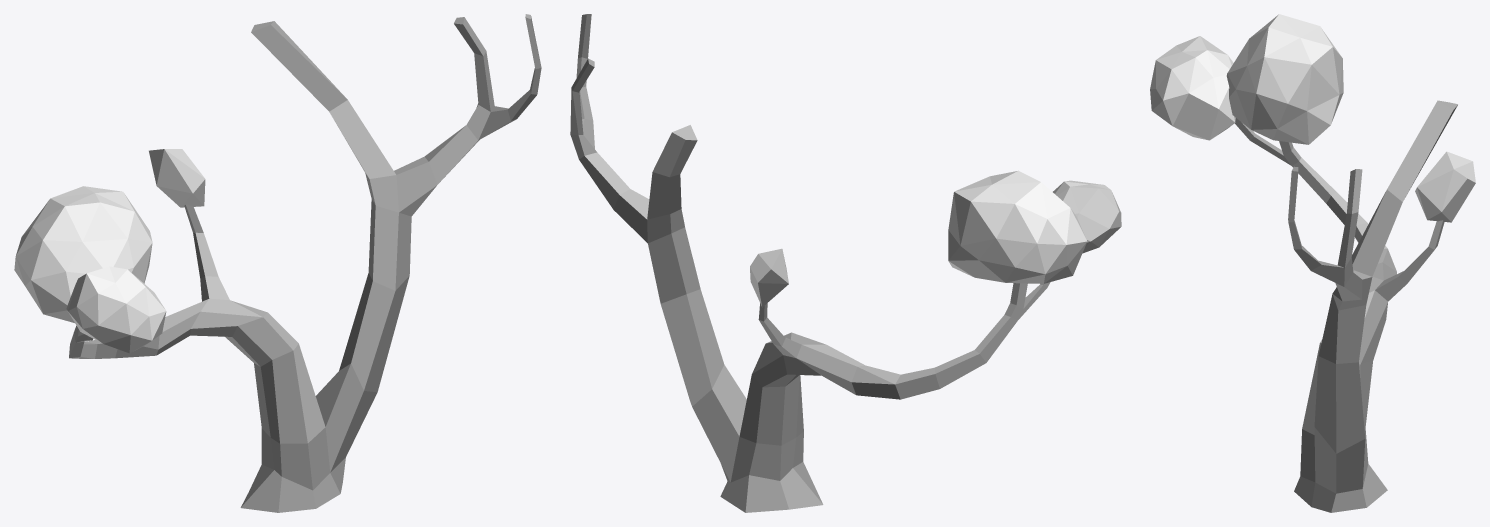
The model's file is dprop_tree2.fbx.
3 views of the same model, side by side, from view 1: azimuth 30°, elevation 25°; view 2: azimuth 150°, elevation 25°; view 3: azimuth 270°, elevation 25° (orthographic). The views are drawn at different scales.
Visible parts, largest first — view 1: TreeA02_; view 2: TreeA02_; view 3: TreeA02_.
Boxes of the visible parts, x1,y1,x2,y2 form: TreeA02_: (14, 14, 541, 512); TreeA02_: (570, 14, 1121, 512); TreeA02_: (1150, 14, 1475, 512).
Bounding box in the file's own units: 456 × 256 × 367.
